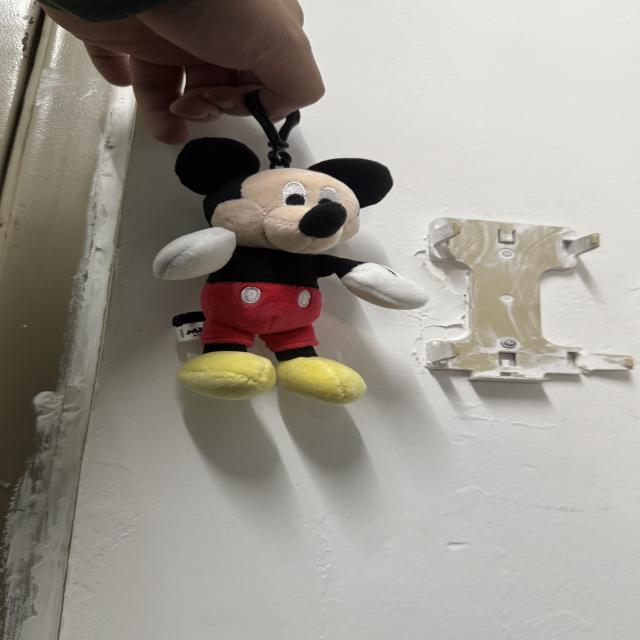mickey: (154, 139, 427, 404)
